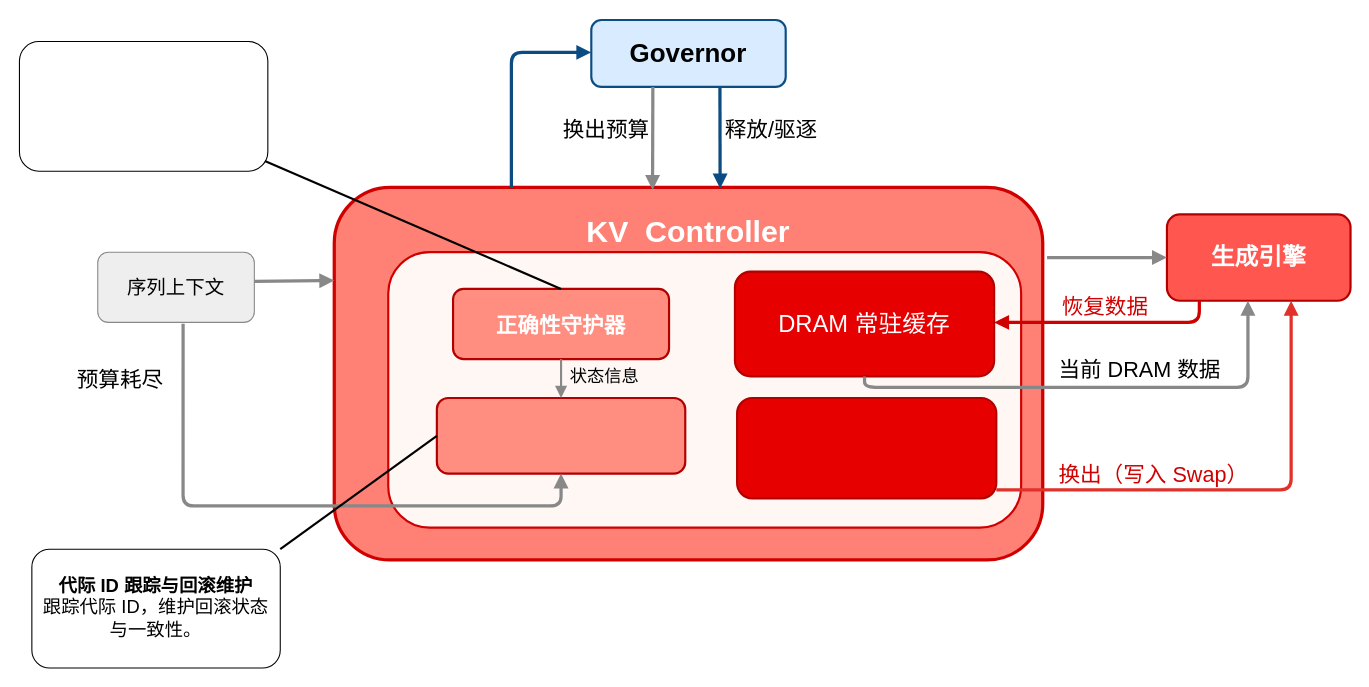
Image size: 1369x687. Some labels were removed from this diagram. The centre of each missing label's shape, as x and y in pixels:
"换出子系统" goes at [866,447].
"槽位回退管理" goes at [560,435].
"正确性守护机制 保障槽位回退完整性； DRAM 常驻数据根据运行时需求动态管理。" goes at [143,105].
